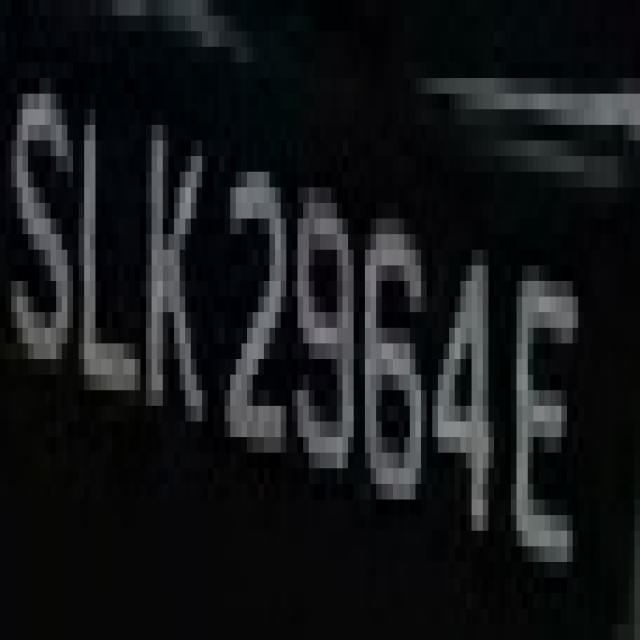2: (208, 140, 298, 530)
4: (410, 250, 500, 578)
6: (360, 203, 432, 577)
9: (281, 172, 359, 530)
E: (500, 203, 600, 593)
K: (146, 78, 219, 484)
L: (67, 62, 135, 452)
S: (6, 47, 73, 421)
